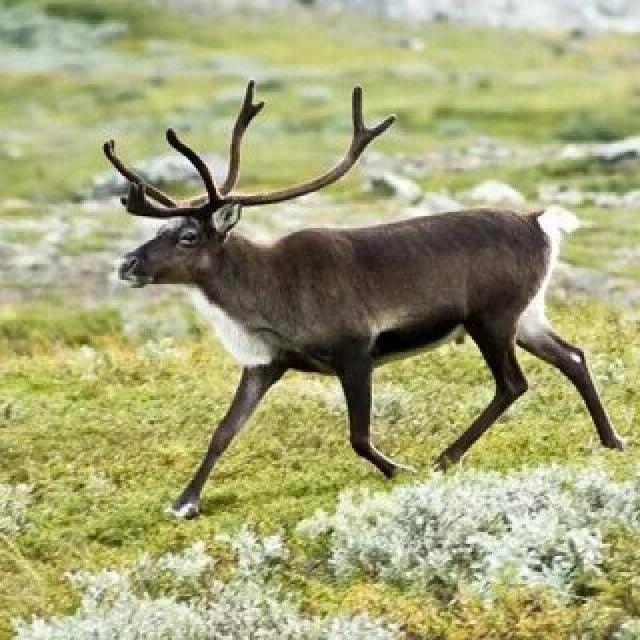deer: (108, 94, 490, 454)
